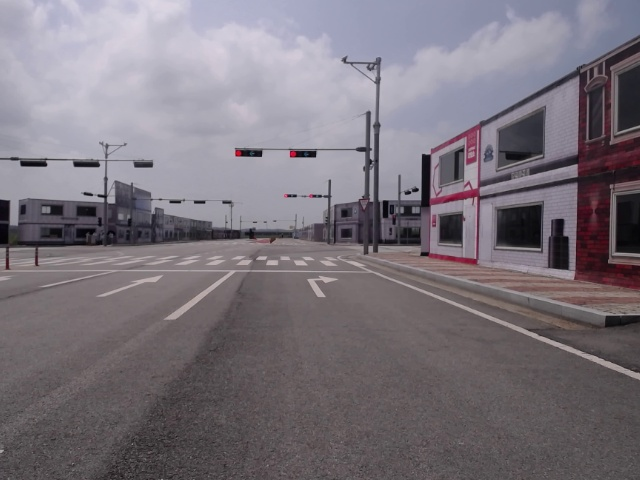left_green_4: (235, 150, 262, 157), (290, 151, 316, 158), (309, 194, 322, 198), (285, 194, 297, 197)
